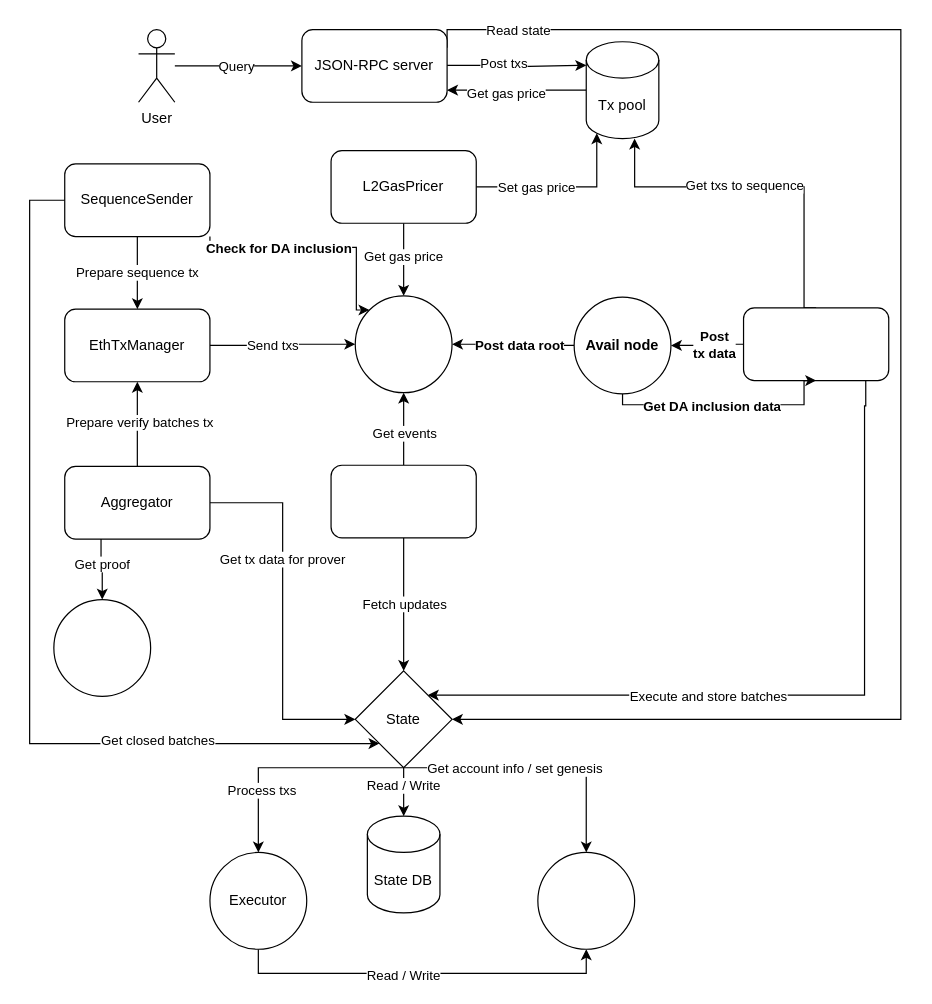
The diagram is 932 pixels wide and 1004 high, and some of its shapes have lost their labels. Here are the shapes that lost their labels. From the top down, the box of each, then its label:
(354, 295, 452, 393): Ethereum L1 node
(742, 307, 889, 381): Sequencer
(330, 464, 476, 538): Synchronizer
(53, 598, 151, 696): Prover
(537, 851, 635, 949): HashDB
